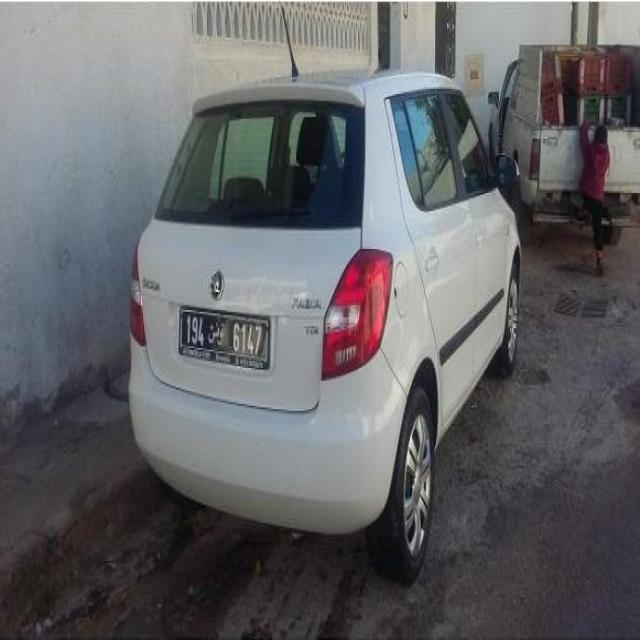LP: (177, 305, 269, 364)
